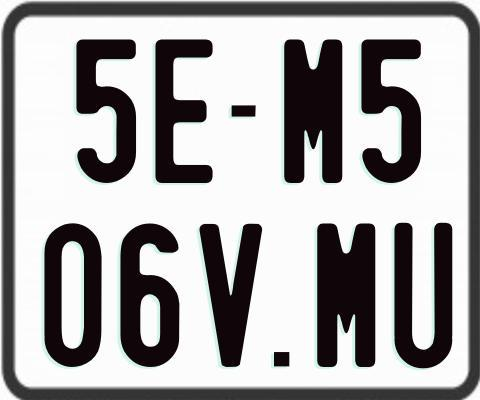0: (42, 222, 103, 372)
5: (76, 36, 142, 180), (358, 36, 422, 180)
6: (119, 221, 181, 370)
E: (154, 37, 215, 182)
M: (282, 38, 344, 188), (317, 220, 377, 370)
U: (391, 221, 450, 367)
V: (198, 221, 264, 364)
